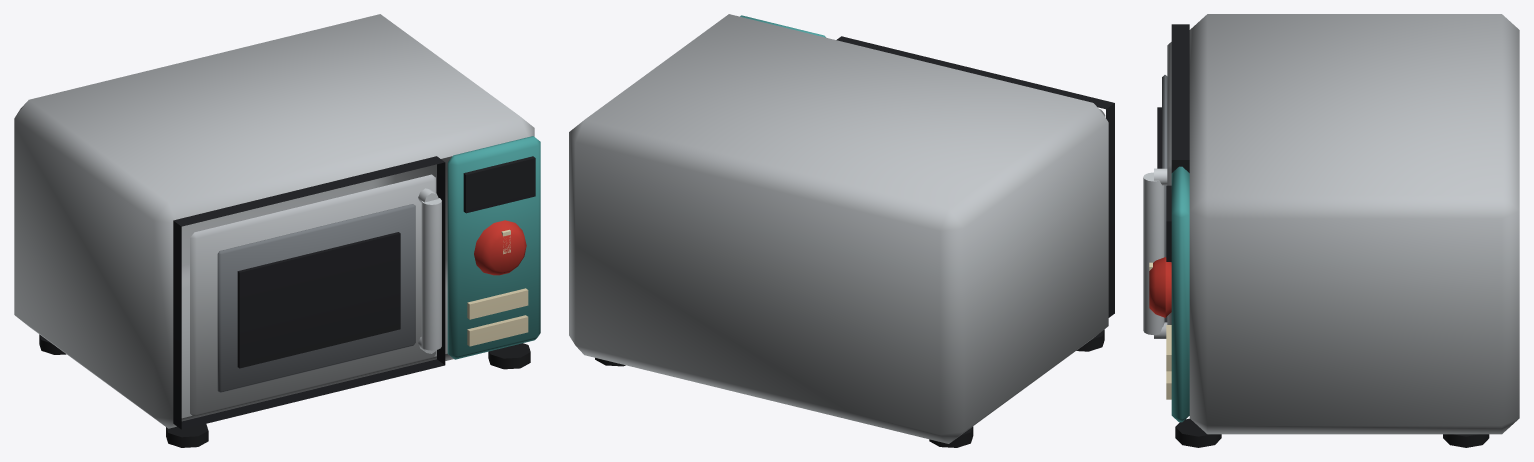
File: SM_Microwave_Com_01.glb
The picture shows the model from 3 angles, left to right: view 1: azimuth 30°, elevation 25°; view 2: azimuth 150°, elevation 25°; view 3: azimuth 270°, elevation 25°; orthographic projection. The views are drawn at different scales.
Parts seen in each view (by area): view 1: SM_Microwave_Com_01; view 2: SM_Microwave_Com_01; view 3: SM_Microwave_Com_01.
Part boxes in pixels (x1,y1,x2,y2): SM_Microwave_Com_01: [14, 14, 540, 447]; SM_Microwave_Com_01: [569, 14, 1114, 447]; SM_Microwave_Com_01: [1143, 14, 1519, 447].
Bounding box in the file's own units: 0.52 × 0.31 × 0.422.
Materials: 1 (1 with a texture image).
